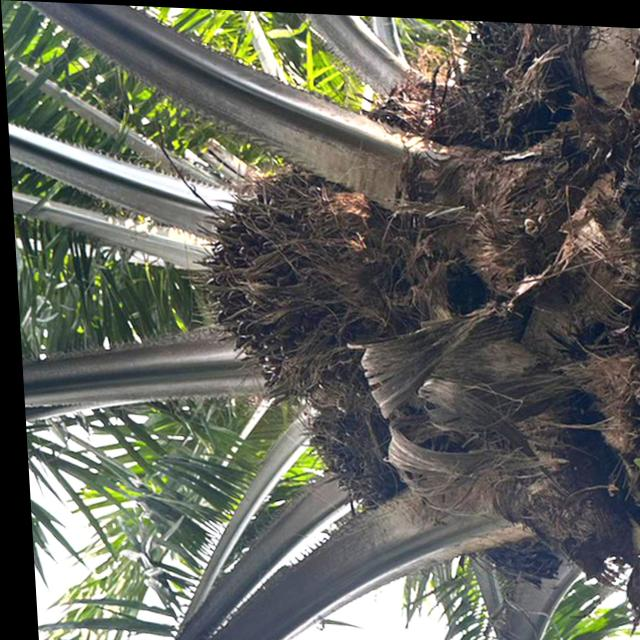unripe: (179, 150, 462, 412), (296, 392, 428, 536)
